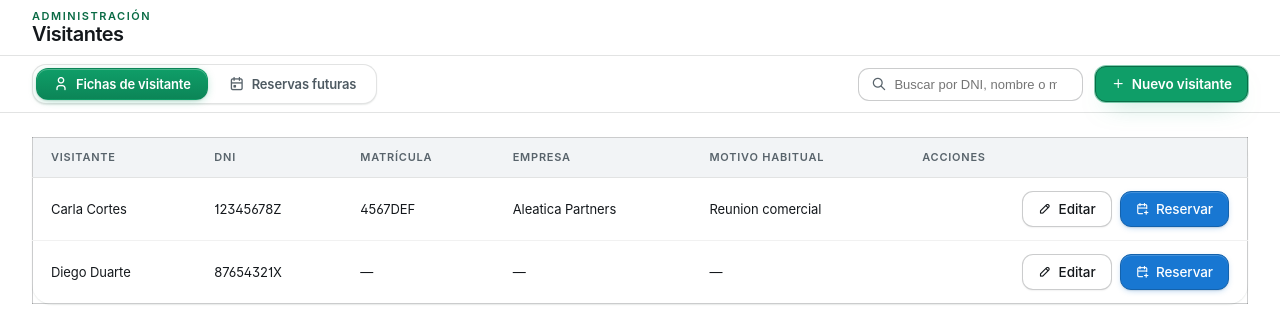
VisitorsPage (ADMIN) › should_render_reservations_when_switching_to_reservations_tab
Expected: the text "Carla Cortes" is shown, [32,178,196,240]
Click the button "Reservas futuras" at (293, 84), box [212,68,373,100]
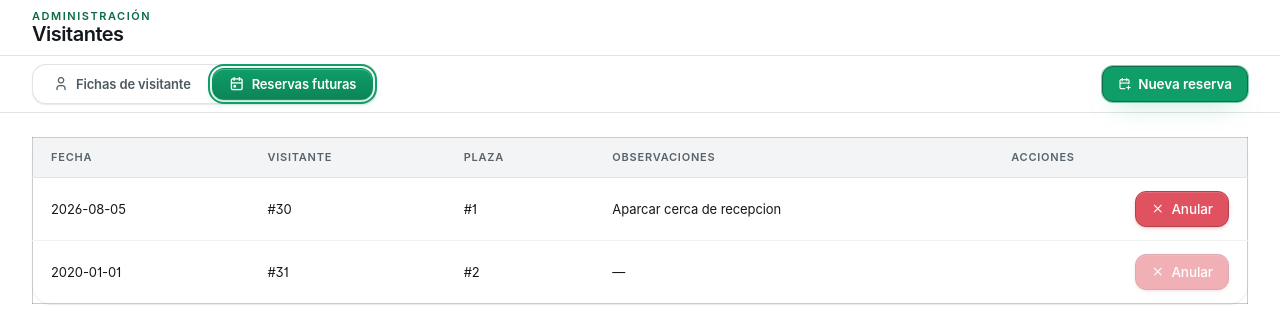
Now the text "2020-01-01" is shown, box [32,240,249,304]
